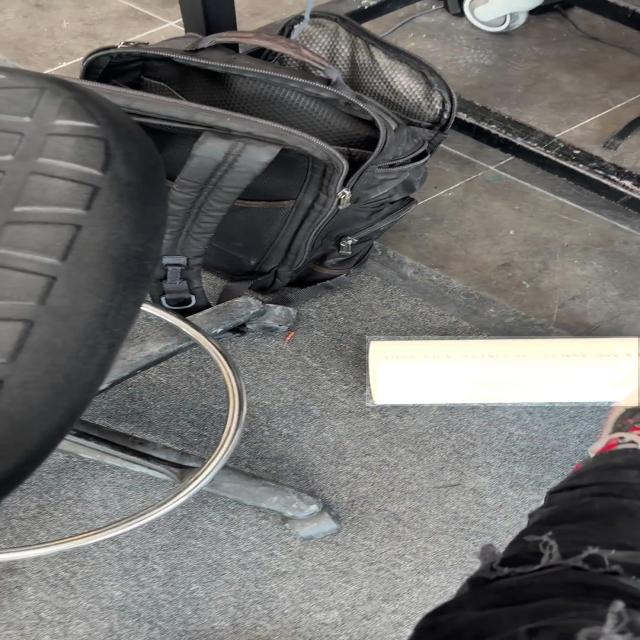Coral: (366, 336, 638, 406)
